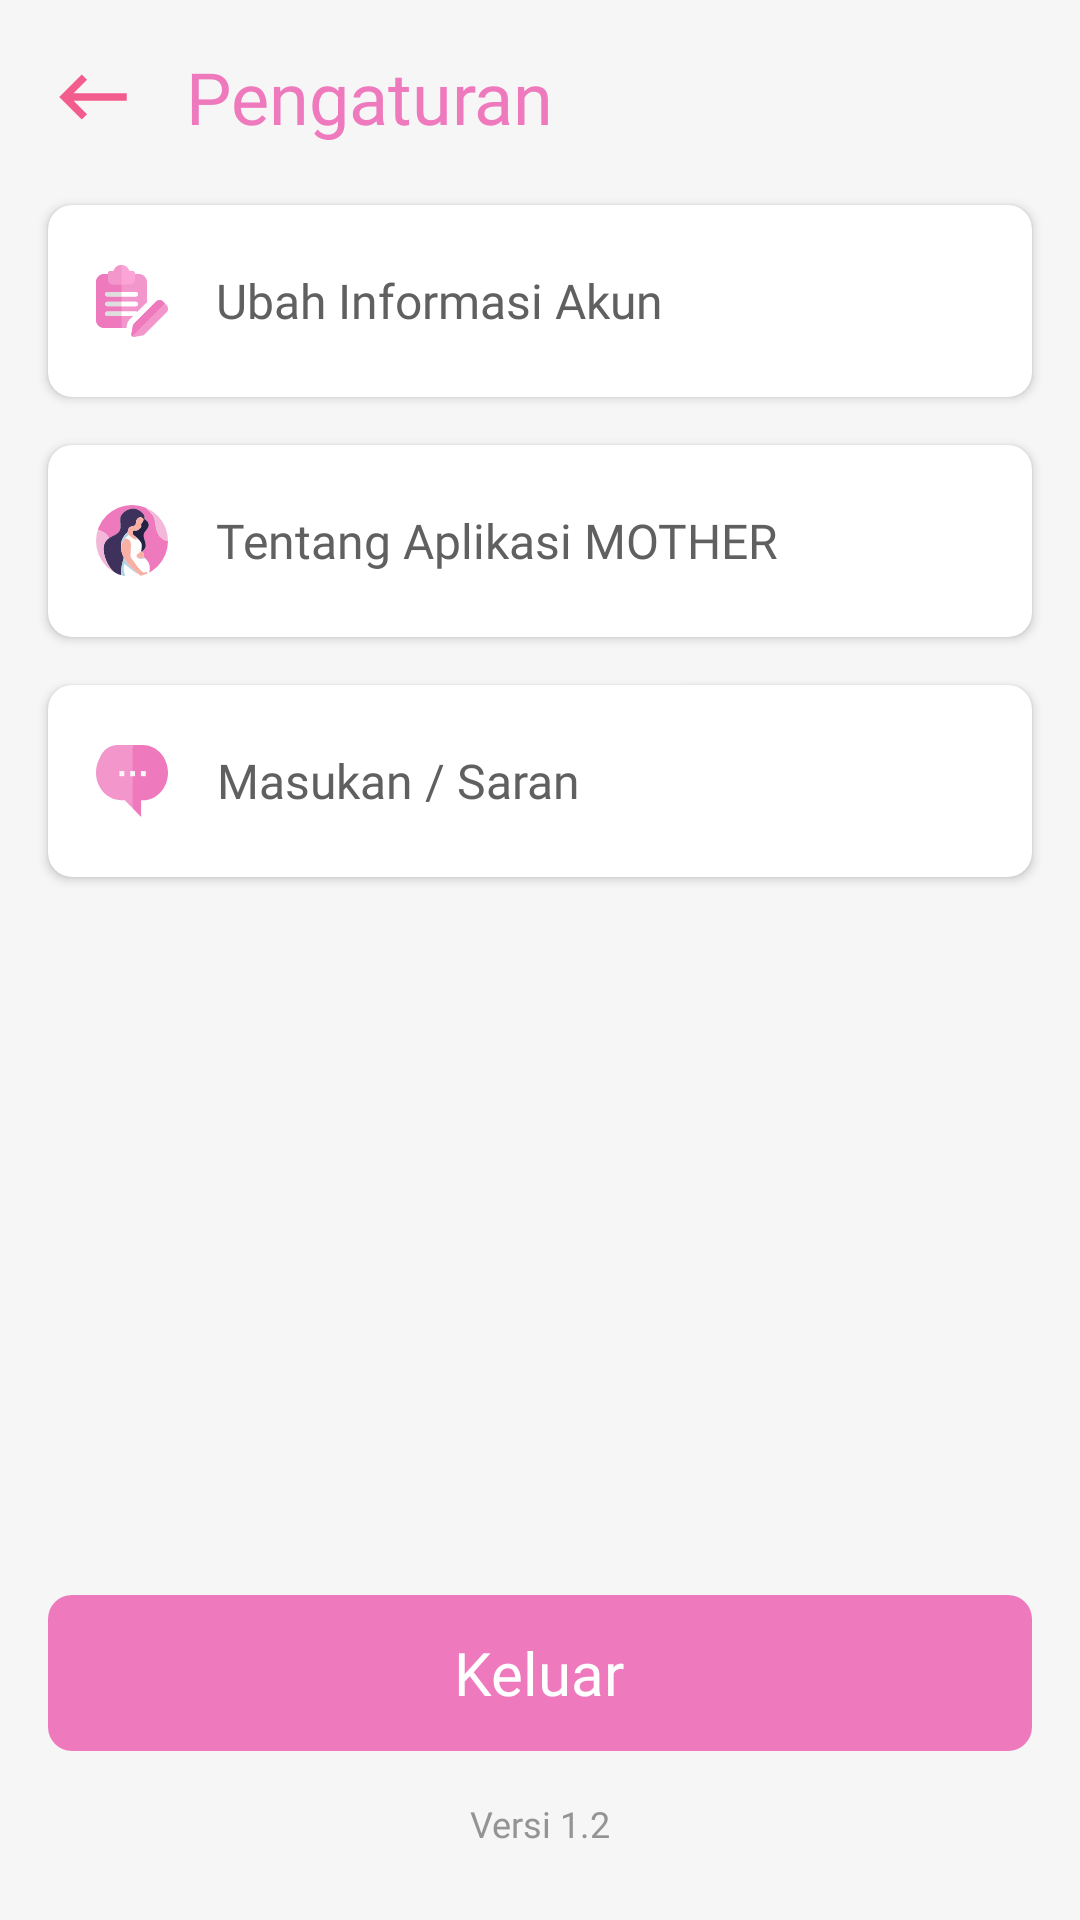

Locate icon controls on the screen. Image size 1080px x 1920px, boxes as BBox(x1, y1, x2, y2).
back: BBox(59, 74, 127, 120)
